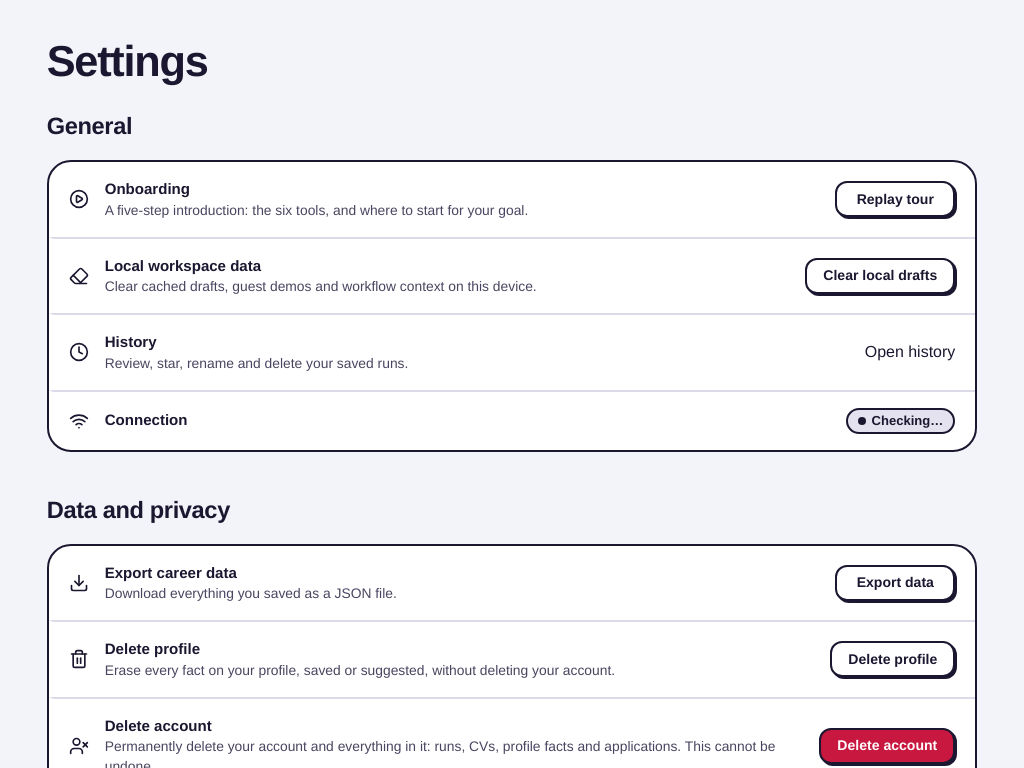
Test: Settings page structure › confirms a local data clear with a toast and no inline status text
Step 1. Click the button "Clear local drafts" → (880, 276), box [805,258,955,294]
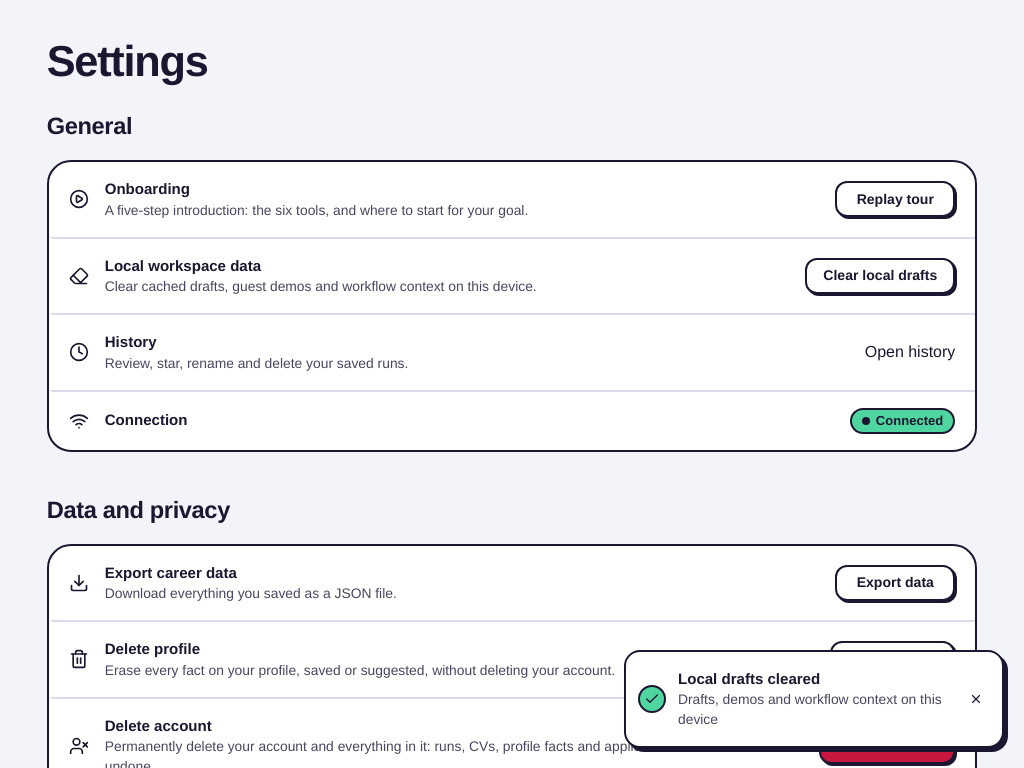
Now the text "Drafts, demos and workflow context on this device" is shown, box [678,690,946,730]
